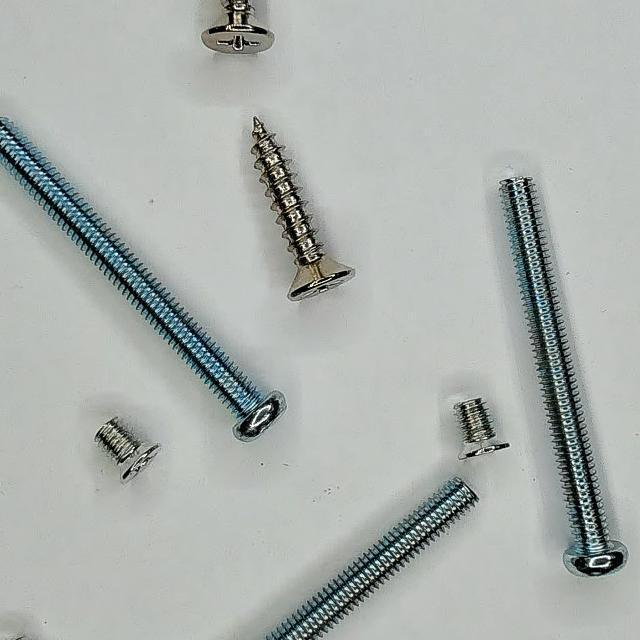Screw: (0, 117, 285, 442), (502, 178, 628, 576), (266, 478, 479, 640), (251, 116, 355, 301), (94, 419, 160, 484), (202, 0, 274, 52), (455, 398, 511, 460)
